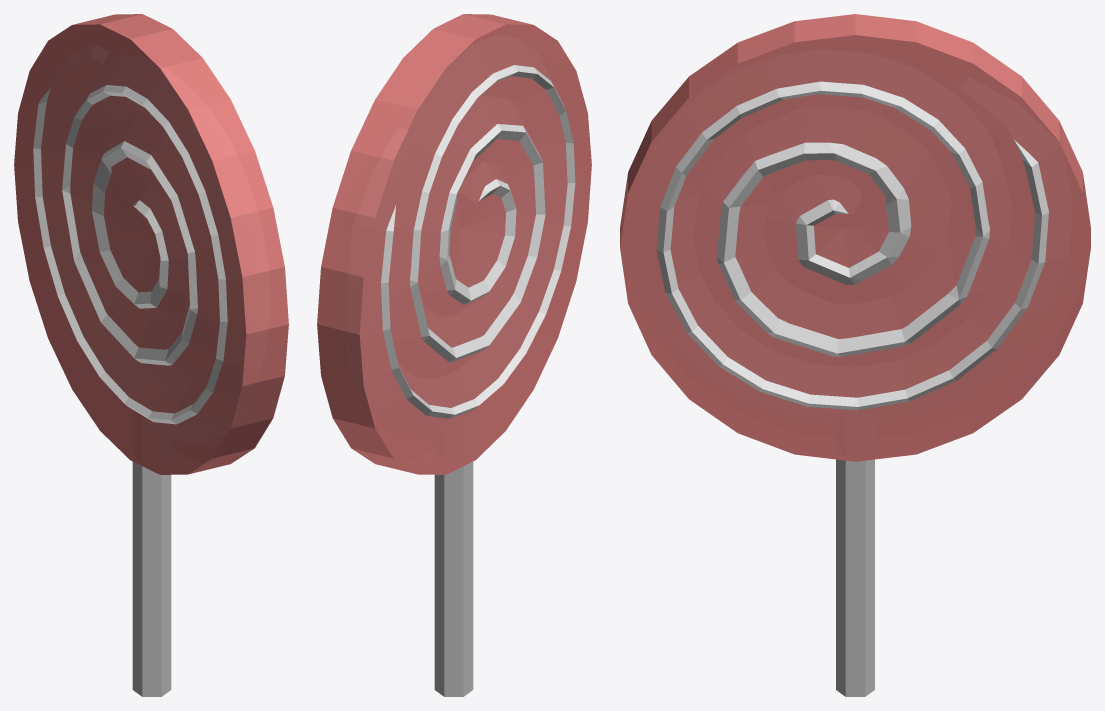
File: Lollipop.fbx
The picture shows the model from 3 angles, left to right: view 1: azimuth 30°, elevation 25°; view 2: azimuth 150°, elevation 25°; view 3: azimuth 270°, elevation 25°; orthographic projection.
Visible parts, largest first — view 1: lollipop; view 2: lollipop; view 3: lollipop.
Boxes of the visible parts, <box> form: lollipop: <box>14,14,288,696</box>; lollipop: <box>317,14,591,696</box>; lollipop: <box>620,14,1090,696</box>.
Bounding box in the file's own units: 18.93 × 221 × 142.
